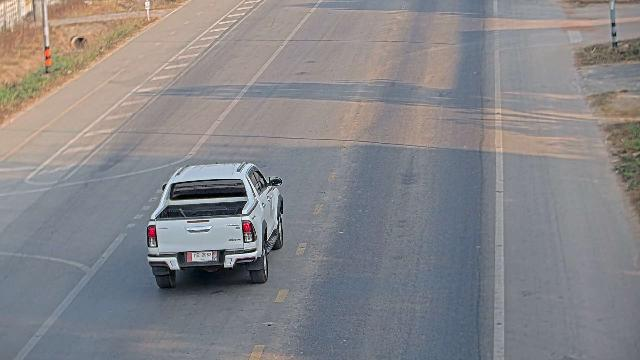pickup-truck: (145, 161, 284, 289)
